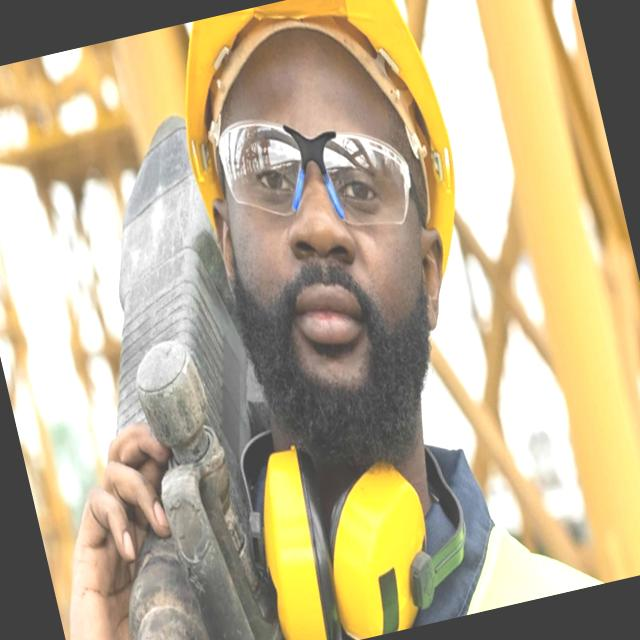goggles: (186, 58, 444, 276)
helmet: (156, 0, 447, 141)
